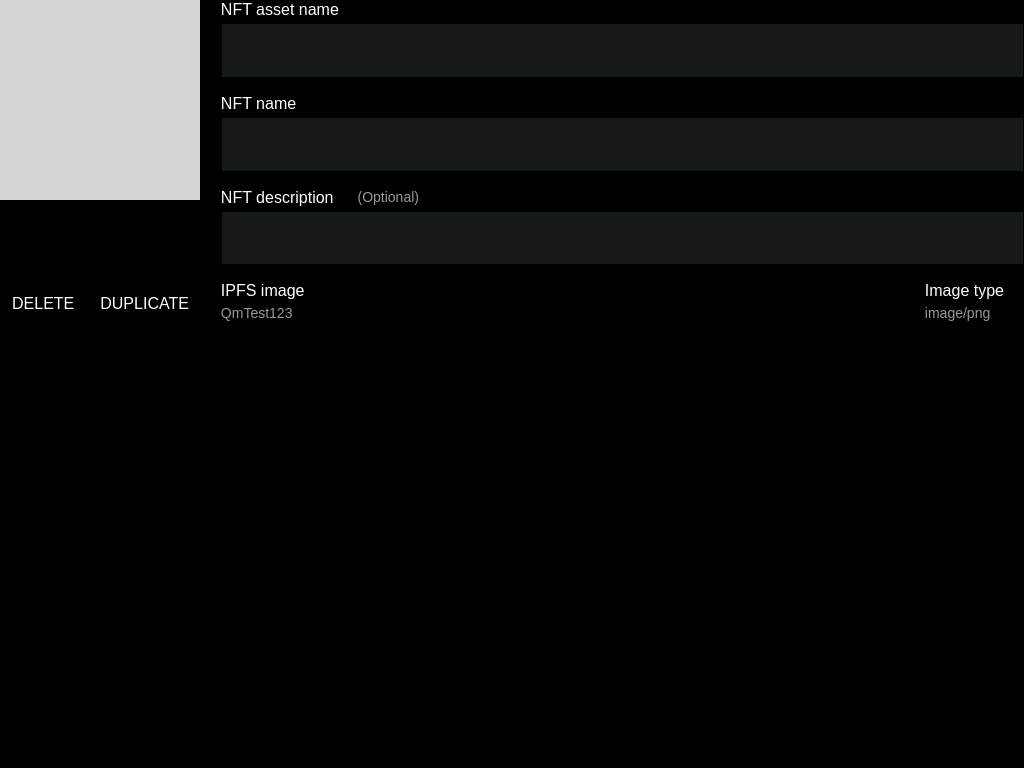
Test: NFTDataInput › should open delete confirmation modal when delete button is clicked
Click the button "Delete".
click(43, 304)  # box [0, 286, 86, 321]
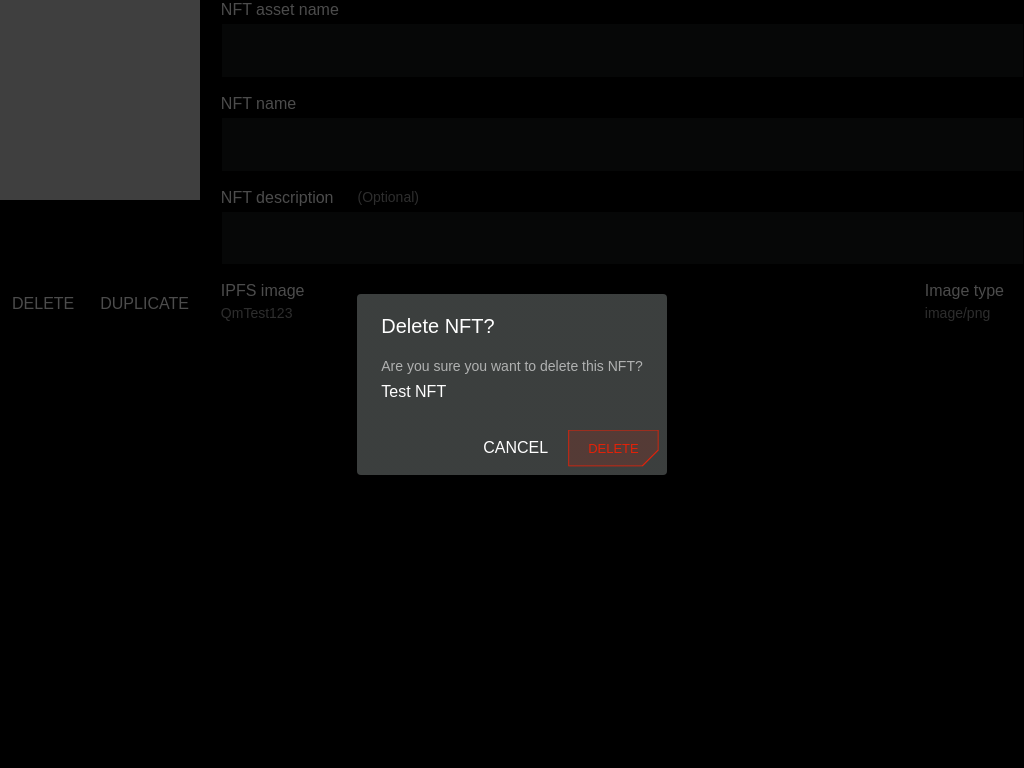
Expected: the heading "Delete NFT?" is shown, [381, 314, 495, 336]
Expected: the text "Are you sure you want to delete this NFT?" is shown, [381, 358, 643, 374]
Expected: the text "Test NFT" is shown, [381, 383, 446, 400]
